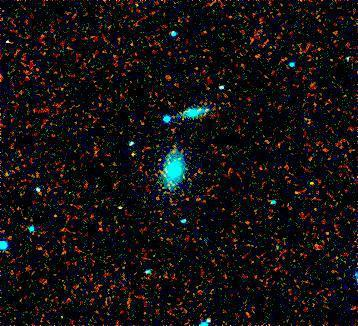star: (118, 141, 148, 171)
